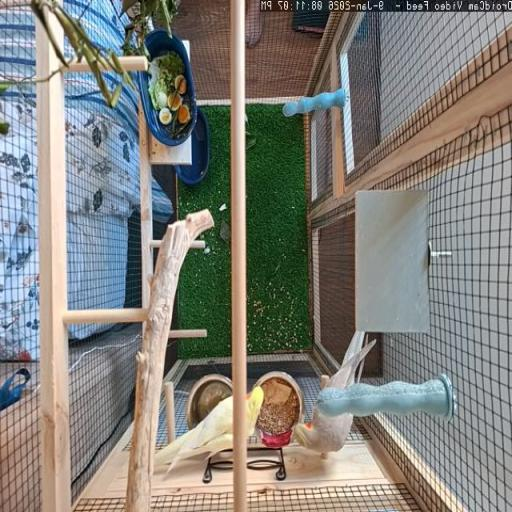bebedero: (186, 373, 231, 427)
comedero: (254, 371, 303, 447)
ninfa: (155, 396, 233, 470), (327, 332, 376, 387), (294, 406, 353, 451), (246, 386, 264, 435)
